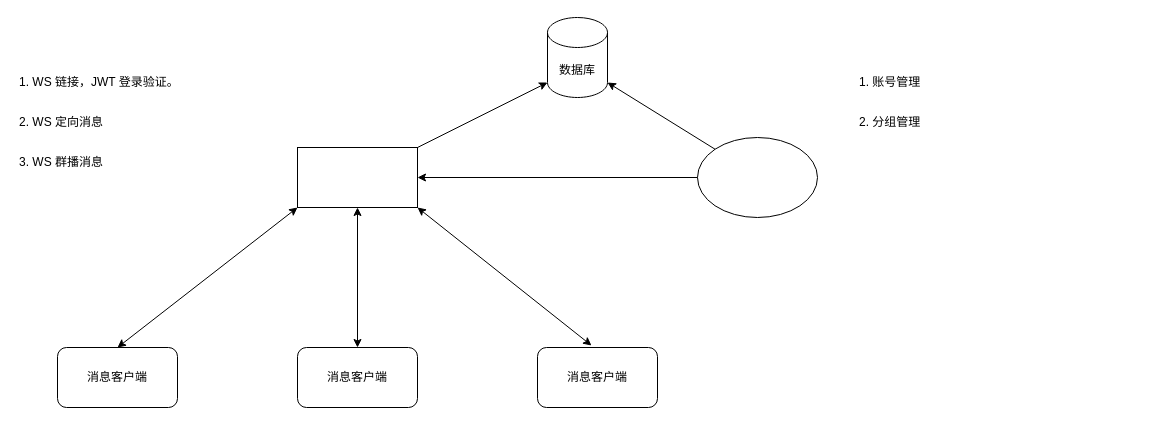
Image size: 1154x425. Some labels were removed from this diagram. The shapes that lost their labels are listed below. From the top down, each one's centre as x and y in pixels, then its label:
At (x=357, y=177): "消息服务器".
At (x=757, y=177): "管理后台服务器".
